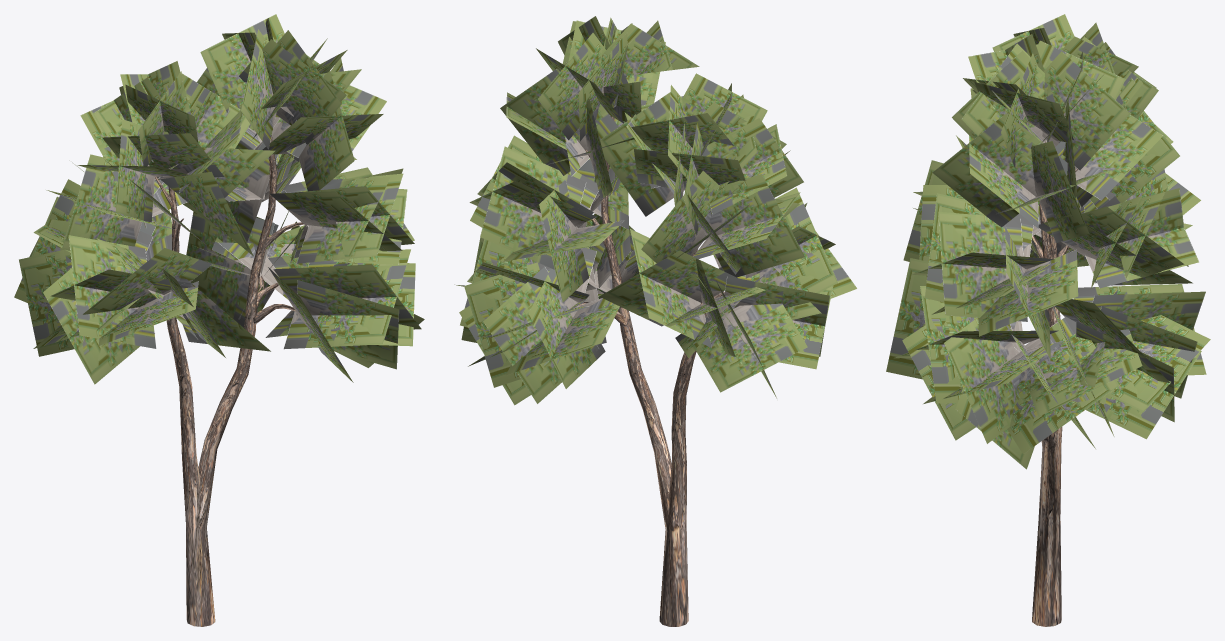
The model's file is cay-dau-co-thu-04.glb.
3 views of the same model, side by side, from view 1: azimuth 30°, elevation 25°; view 2: azimuth 150°, elevation 25°; view 3: azimuth 270°, elevation 25° (orthographic). The views are drawn at different scales.
Visible parts, largest first — view 1: Tree_04; view 2: Tree_04; view 3: Tree_04.
Boxes of the visible parts, box(x1,y1,x2,y2) form: Tree_04: box(14, 14, 424, 626); Tree_04: box(454, 16, 856, 626); Tree_04: box(886, 14, 1210, 626).
Size of the model in its own units: 21.77 by 34.19 by 16.44.
Materials: 1 (1 with a texture image).
